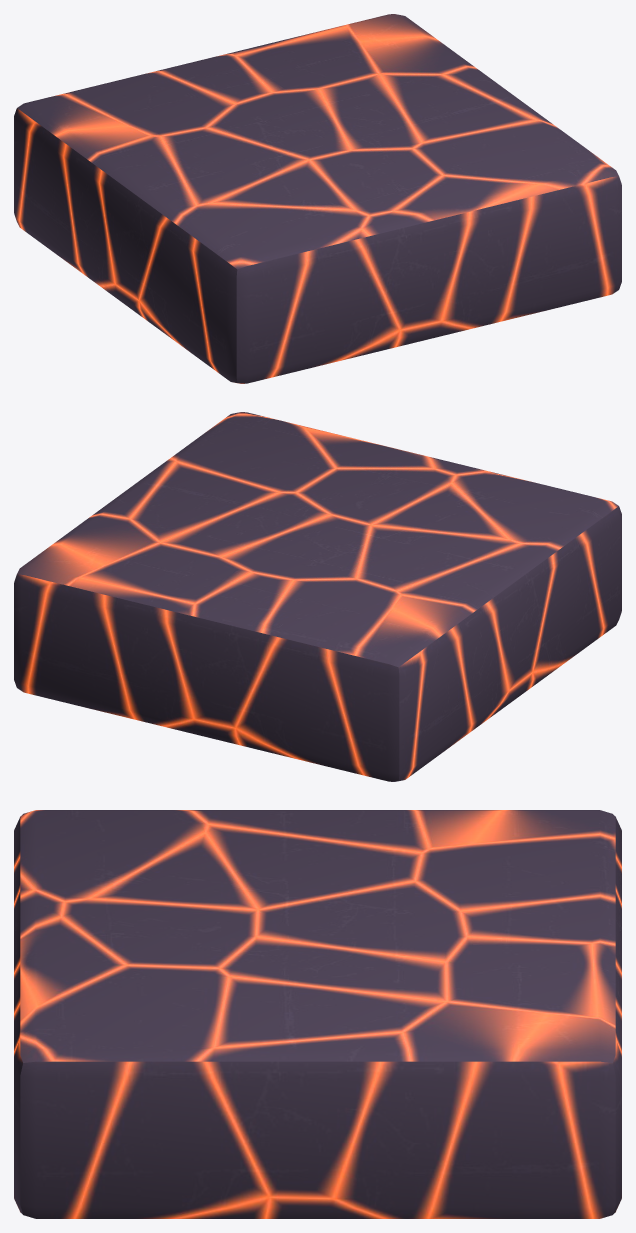
The model's file is vol_ground_cracked.glb.
3 views of the same model, one above another, from view 1: azimuth 30°, elevation 25°; view 2: azimuth 150°, elevation 25°; view 3: azimuth 270°, elevation 25° (orthographic). The views are drawn at different scales.
Visible parts, largest first — view 1: vol_ground_cracked; view 2: vol_ground_cracked; view 3: vol_ground_cracked.
Part boxes in pixels (x1,y1,x2,y2): vol_ground_cracked: (14, 14, 621, 383); vol_ground_cracked: (14, 412, 621, 781); vol_ground_cracked: (14, 810, 621, 1218).
Bounding box in the file's own units: 0.98 × 0.3 × 0.98.
Materials: 1 (1 with a texture image).
